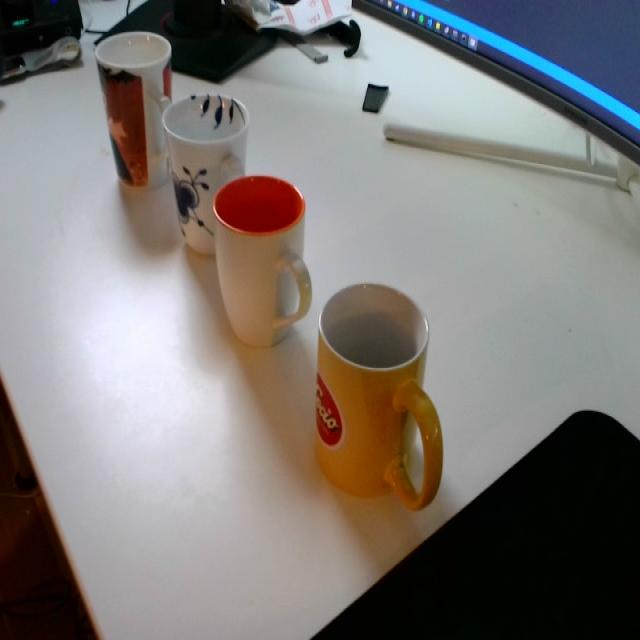Cocio Cup: (316, 283, 449, 512)
Halloween cup: (95, 33, 173, 190)
Hand painted cup: (164, 93, 251, 254)
White Cup: (213, 177, 311, 350)
